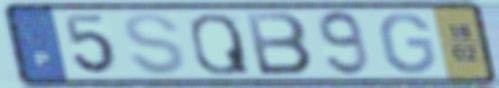5: (62, 13, 120, 77)
9: (318, 8, 375, 79)
B: (242, 10, 316, 78)
G: (377, 11, 439, 76)
Q: (187, 11, 254, 77)
S: (121, 11, 189, 78)
